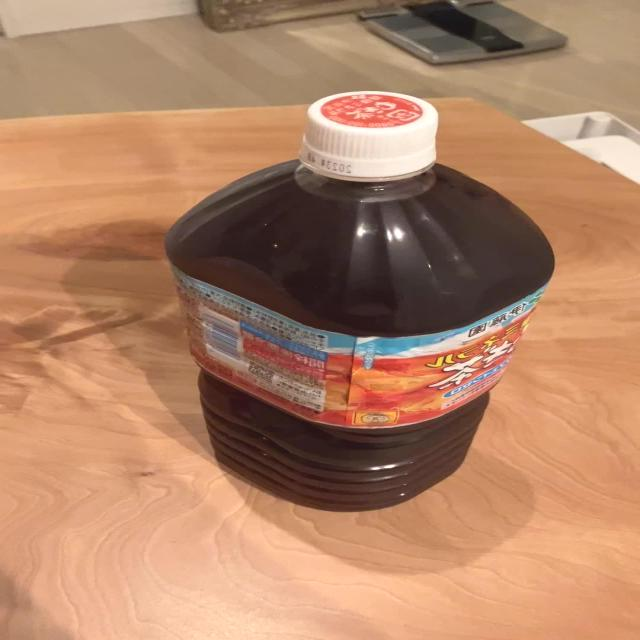bottle: (162, 90, 562, 510)
cap: (294, 96, 449, 186)
label: (184, 292, 546, 424)
